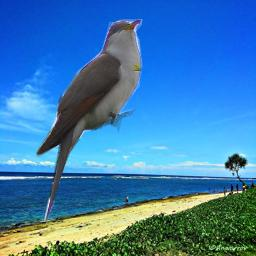Cuckoo: (35, 19, 143, 225)
